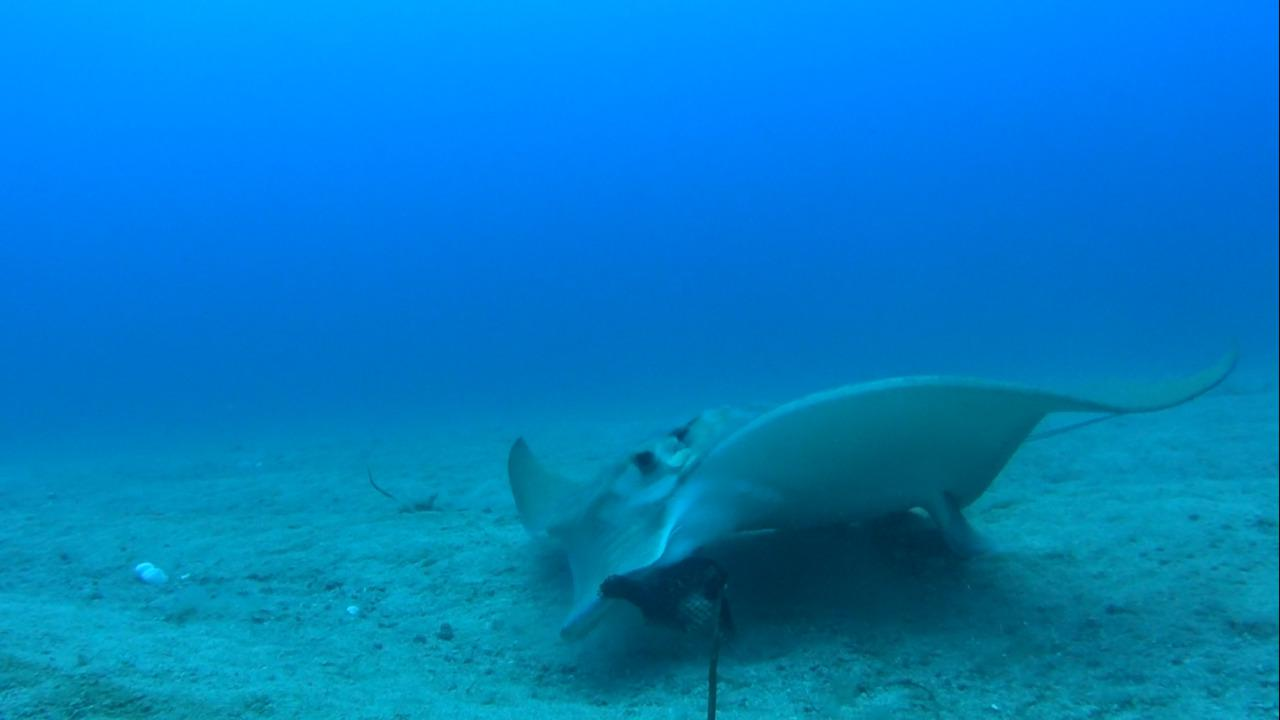myliobatis: (499, 345, 1257, 651)
